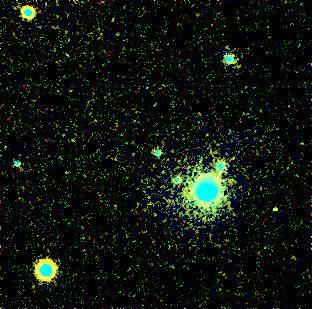star: (217, 167, 247, 197)
